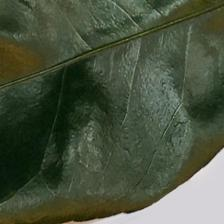healthy: (2, 7, 210, 189)
